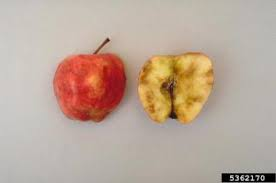damaged_apple: (136, 53, 216, 129), (52, 52, 127, 125)
